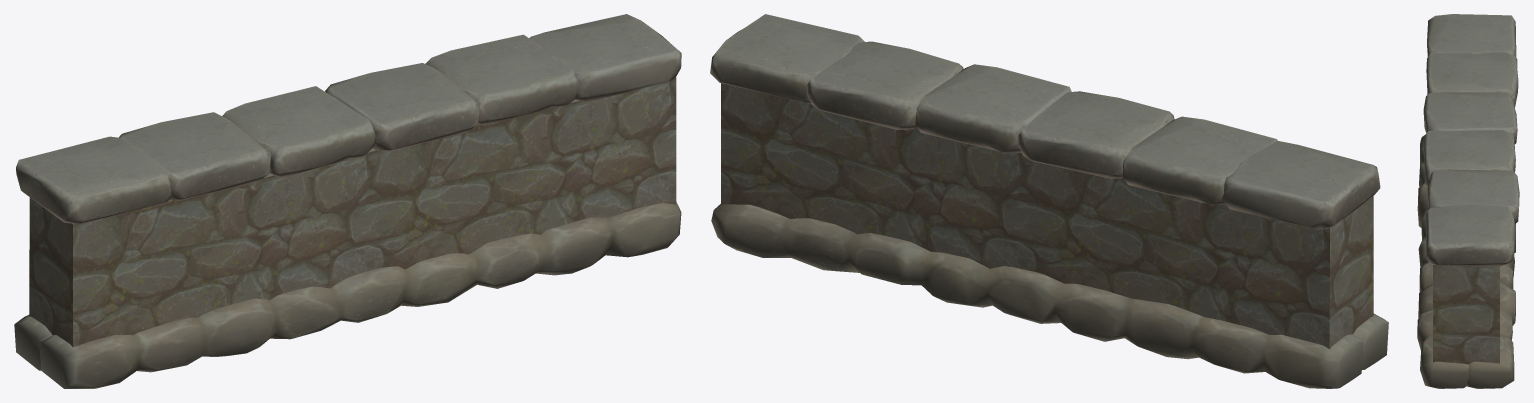
Rendered from SM_FW01_Ruins_Int_Trim_C_4m_01.fbx.
3 renders of one model, left to right at view 1: azimuth 30°, elevation 25°; view 2: azimuth 150°, elevation 25°; view 3: azimuth 270°, elevation 25°, orthographic. The views are drawn at different scales.
Parts seen in each view (by area): view 1: SM_FW01_Ruins_Int_Trim_C_4m_01_LOD0, SM_FW01_Ruins_Int_Trim_C_4m_01; view 2: SM_FW01_Ruins_Int_Trim_C_4m_01_LOD0, SM_FW01_Ruins_Int_Trim_C_4m_01; view 3: SM_FW01_Ruins_Int_Trim_C_4m_01_LOD0, SM_FW01_Ruins_Int_Trim_C_4m_01.
Part boxes in pixels (bbox=[...]): SM_FW01_Ruins_Int_Trim_C_4m_01_LOD0: bbox=[14, 14, 681, 388]; SM_FW01_Ruins_Int_Trim_C_4m_01: bbox=[29, 77, 676, 347]; SM_FW01_Ruins_Int_Trim_C_4m_01_LOD0: bbox=[710, 14, 1388, 388]; SM_FW01_Ruins_Int_Trim_C_4m_01: bbox=[721, 83, 1373, 349]; SM_FW01_Ruins_Int_Trim_C_4m_01_LOD0: bbox=[1417, 14, 1519, 388]; SM_FW01_Ruins_Int_Trim_C_4m_01: bbox=[1433, 264, 1499, 386].
Size of what is drawn, in the model's own units: 4.12 by 1.25 by 0.7631.
